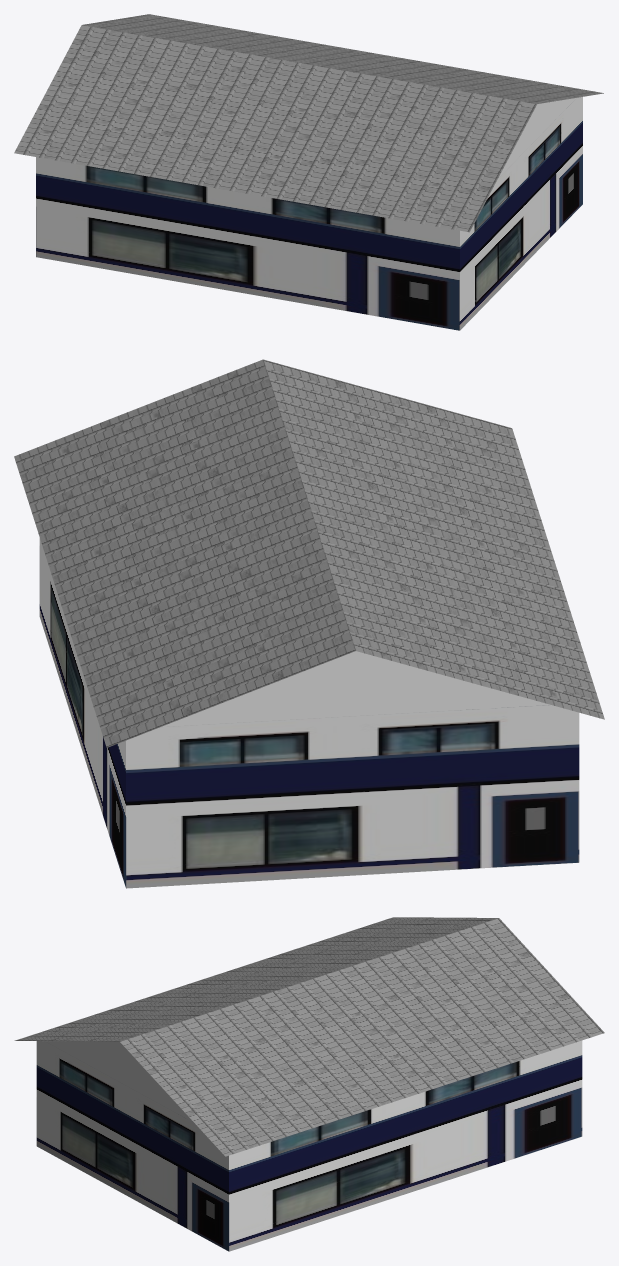
3 views of the same model, one above another, from view 1: azimuth 30°, elevation 25°; view 2: azimuth 150°, elevation 25°; view 3: azimuth 270°, elevation 25° (orthographic). The views are drawn at different scales.
Visible parts, largest first — view 1: CityEngineMaterial_4_m, CityEngineMaterial_2_m, CityEngineMaterial_3_m; view 2: CityEngineMaterial_4_m, CityEngineMaterial_2_m, CityEngineMaterial_3_m; view 3: CityEngineMaterial_4_m, CityEngineMaterial_2_m, CityEngineMaterial_3_m.
Boxes of the visible parts, box(x1,y1,x2,y2) form: CityEngineMaterial_4_m: box(14, 14, 603, 232); CityEngineMaterial_2_m: box(36, 97, 582, 330); CityEngineMaterial_3_m: box(498, 98, 576, 178); CityEngineMaterial_4_m: box(14, 359, 604, 747); CityEngineMaterial_2_m: box(39, 538, 579, 888); CityEngineMaterial_3_m: box(160, 651, 550, 727); CityEngineMaterial_4_m: box(14, 917, 604, 1156); CityEngineMaterial_2_m: box(36, 1040, 582, 1251); CityEngineMaterial_3_m: box(46, 1041, 193, 1122).
Size of the model in its own units: 33.95 by 10.68 by 35.39.
